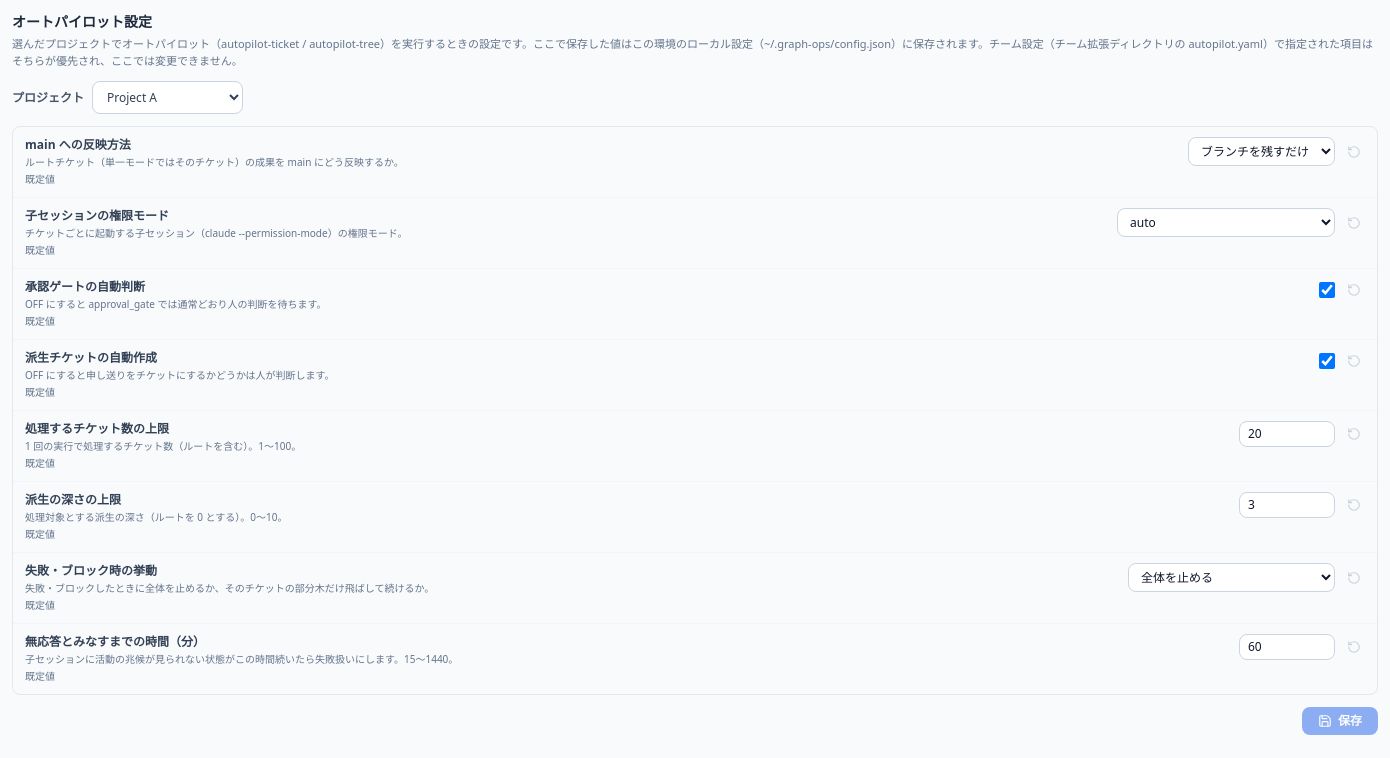
Test: AutopilotSettingsEditor › translates a 400 AUTOPILOT_SETTING_LOCKED into ja with the key names
Replace the text in the number field labelled "処理するチケット数の上限" with "12". click: (1287, 434)
box: [1239,421,1335,447]
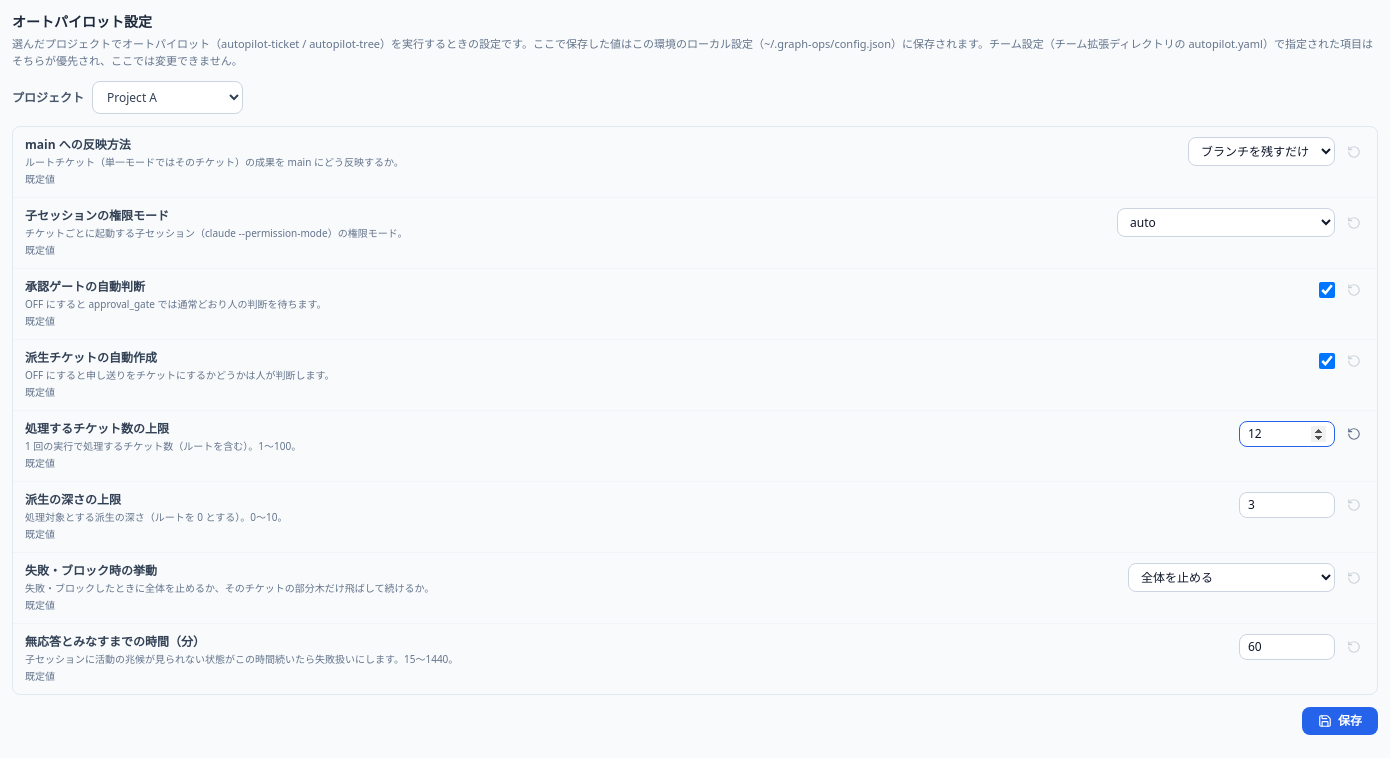
Click the button "保存". click: (1340, 721)
box: [1302,707,1378,735]
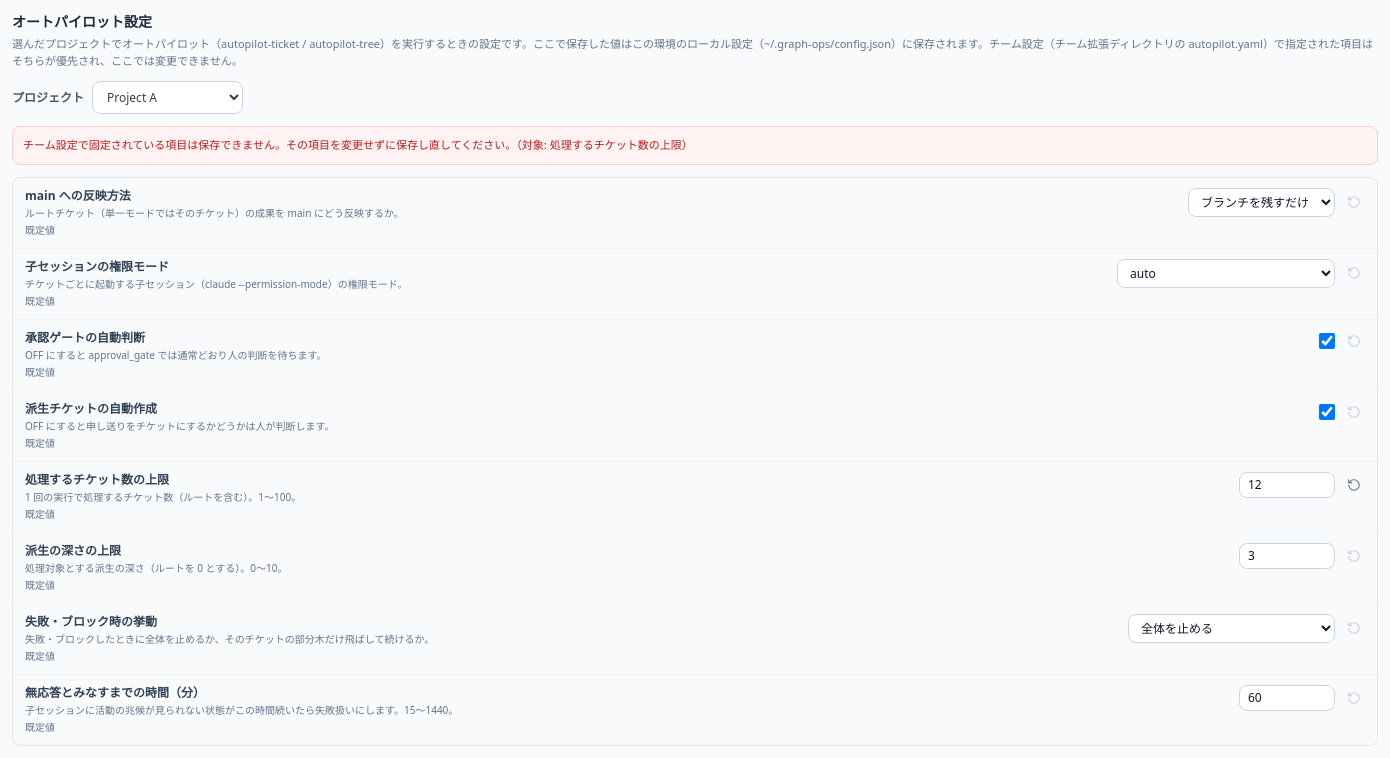
Expected: the message does not show "locked: maxTickets", [12,126,1378,164]
Expected: the message shows "チーム設定で固定されている項目は保存できません。その項目を変更せずに保存し直してください。", [23,137,693,152]
Expected: the message shows "処理するチケット数の上限", [23,137,693,152]
